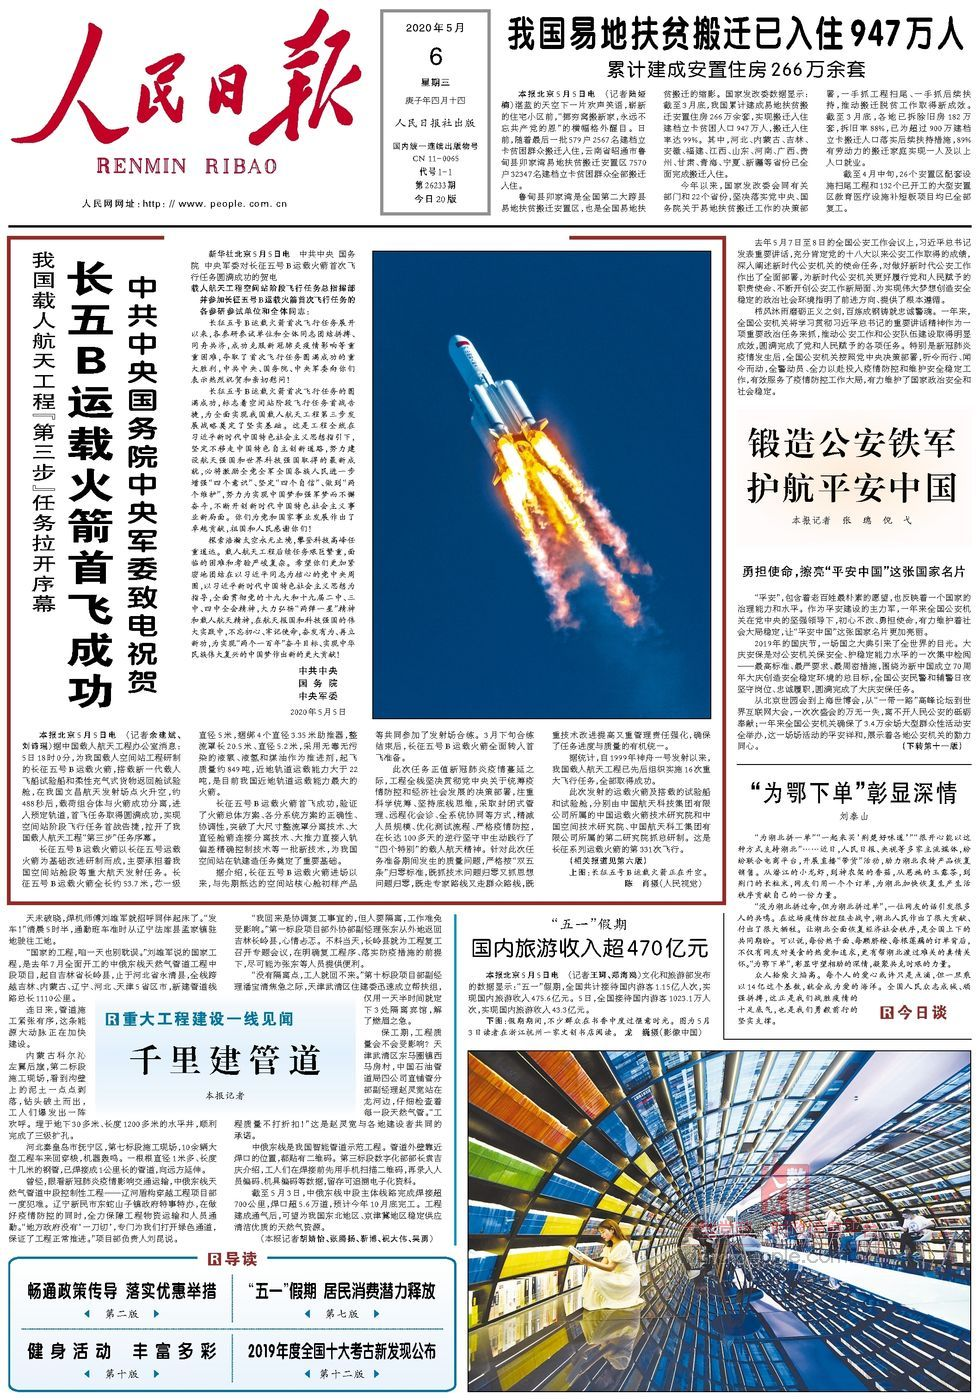pic: (462, 1045, 975, 1395), (368, 245, 717, 723)
